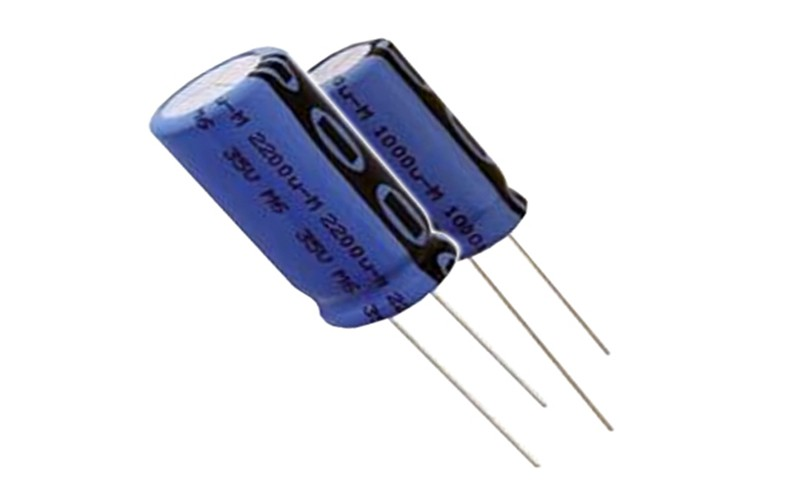Capacitor: (127, 18, 646, 477)
